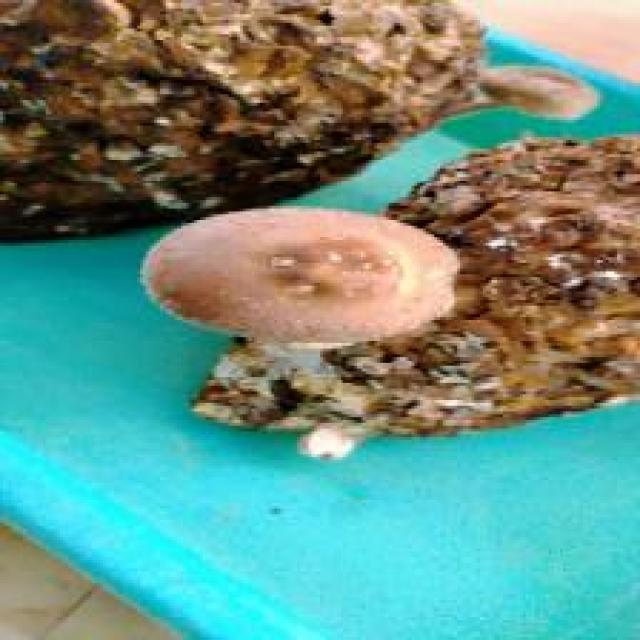chanterelle: (137, 129, 637, 457), (0, 0, 594, 240)
death-cap: (137, 203, 460, 348)
